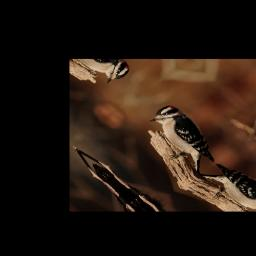Woodpecker: (132, 99, 229, 179)
